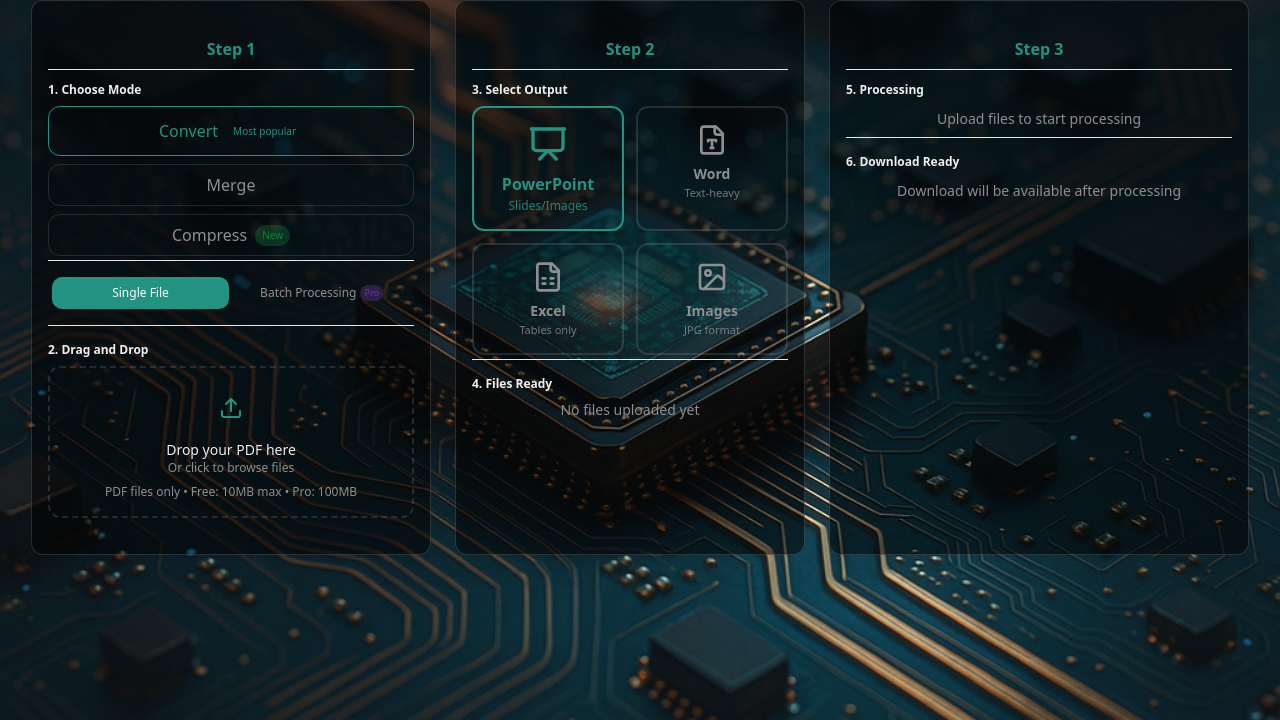
UnifiedConversionInterface › Batch Mode Toggle › should not show batch mode toggle in Merge mode
Click the button with test id "merge-mode-button" at x=231, y=185, box [48,164,414,206]
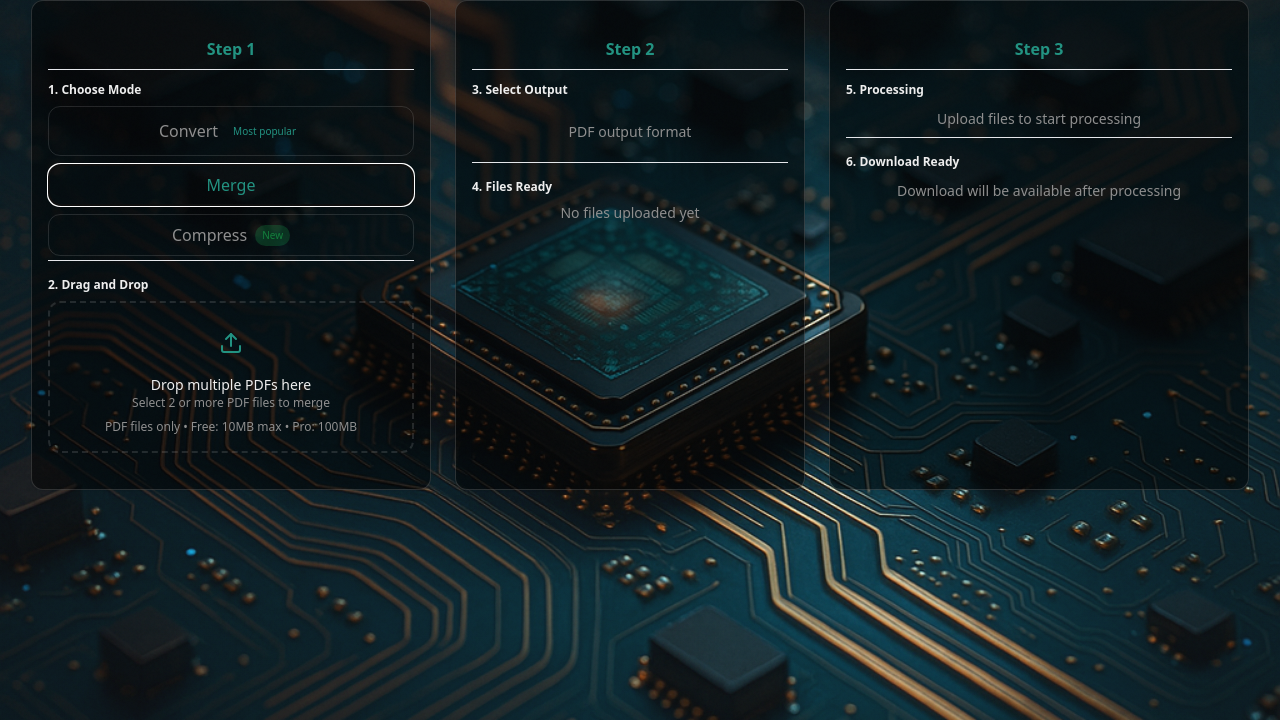
Check: the button "Single File" is gone
Check: the button "Batch Processing" is gone
